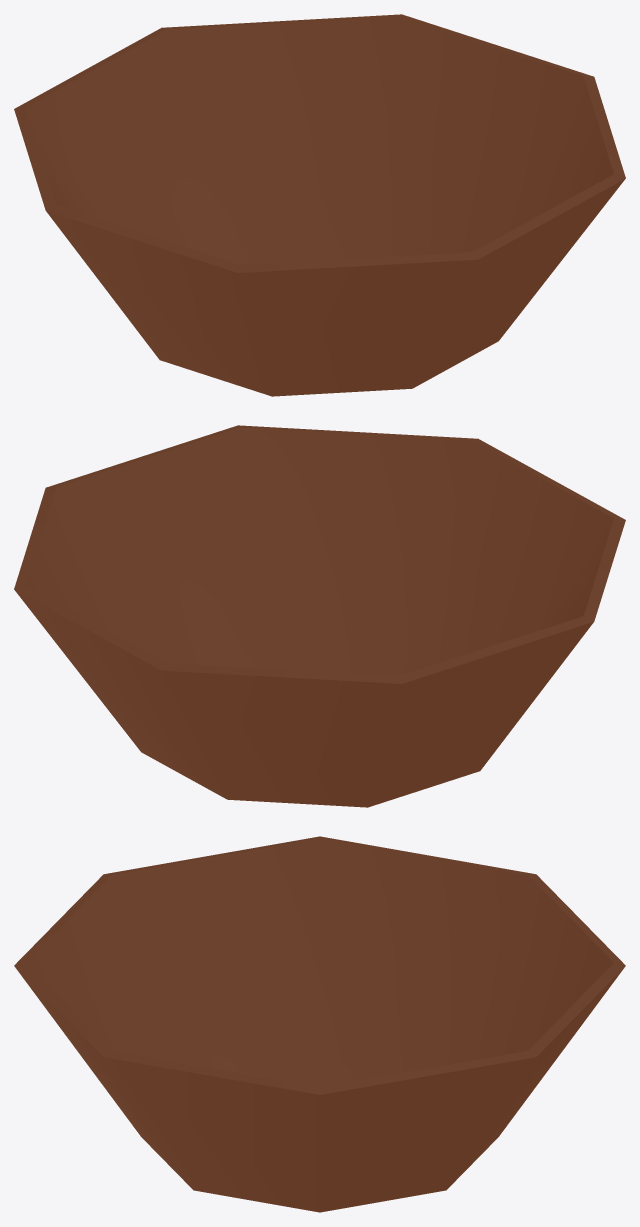
Rendered from bol.fbx.
3 views of the same model, one above another, from view 1: azimuth 30°, elevation 25°; view 2: azimuth 150°, elevation 25°; view 3: azimuth 270°, elevation 25° (orthographic). The views are drawn at different scales.
Parts seen in each view (by area): view 1: Bol; view 2: Bol; view 3: Bol.
Part boxes in pixels (x1,y1,x2,y2): Bol: (14, 14, 625, 396); Bol: (14, 425, 625, 807); Bol: (14, 836, 625, 1212).
Size of the model in its own units: 50.88 by 15.97 by 50.88.
